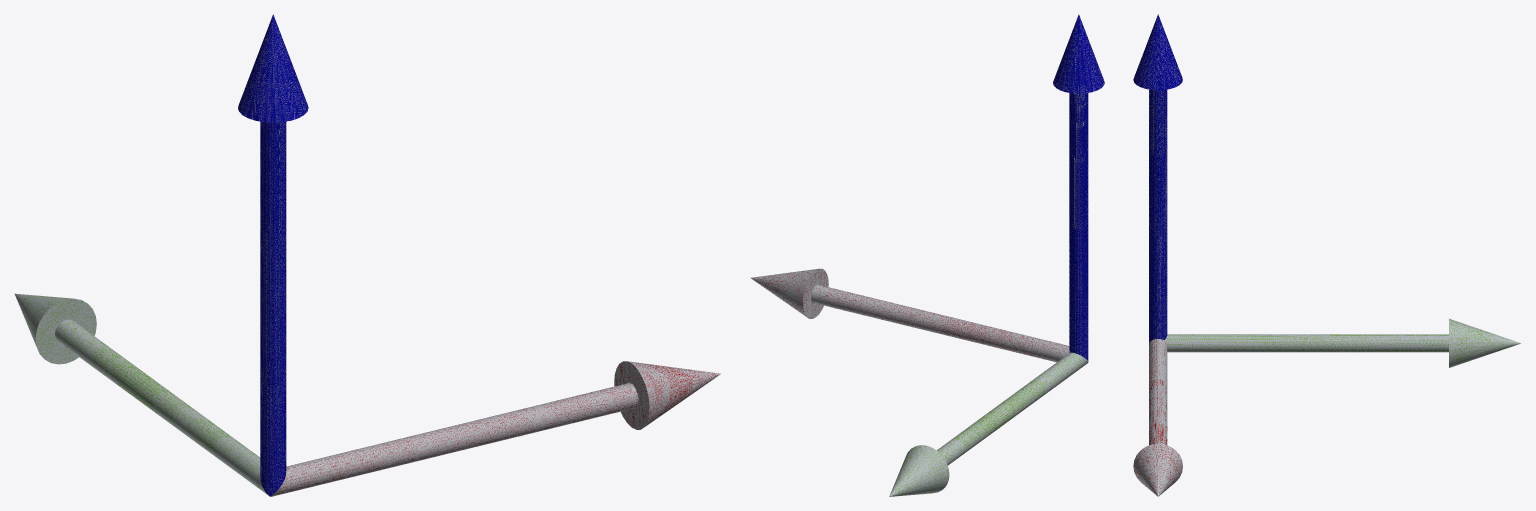
The model's file is axis.obj.
3 renders of one model, left to right at view 1: azimuth 30°, elevation 25°; view 2: azimuth 150°, elevation 25°; view 3: azimuth 270°, elevation 25°, orthographic. The views are drawn at different scales.
Parts seen in each view (by area): view 1: ID3, ID53, ID35, ID17, ID43, ID25; view 2: ID3, ID53, ID35, ID17, ID25, ID43; view 3: ID35, ID3, ID17, ID53, ID43, ID25.
Part boxes in pixels (bbox=[...]): ID3: bbox=[260, 121, 286, 496]; ID53: bbox=[270, 383, 638, 496]; ID35: bbox=[55, 319, 268, 495]; ID17: bbox=[238, 14, 308, 122]; ID43: bbox=[614, 361, 720, 429]; ID25: bbox=[14, 293, 96, 364]; ID3: bbox=[1069, 93, 1088, 361]; ID53: bbox=[811, 284, 1069, 362]; ID35: bbox=[937, 352, 1088, 465]; ID17: bbox=[1053, 14, 1104, 93]; ID25: bbox=[889, 445, 949, 496]; ID43: bbox=[750, 268, 828, 318]; ID35: bbox=[1164, 334, 1448, 352]; ID3: bbox=[1149, 89, 1167, 342]; ID17: bbox=[1133, 14, 1182, 90]; ID53: bbox=[1149, 339, 1167, 445]; ID43: bbox=[1133, 443, 1182, 496]; ID25: bbox=[1449, 318, 1520, 367].
Size of the model in its own units: 3.26 by 3.26 by 3.26.
